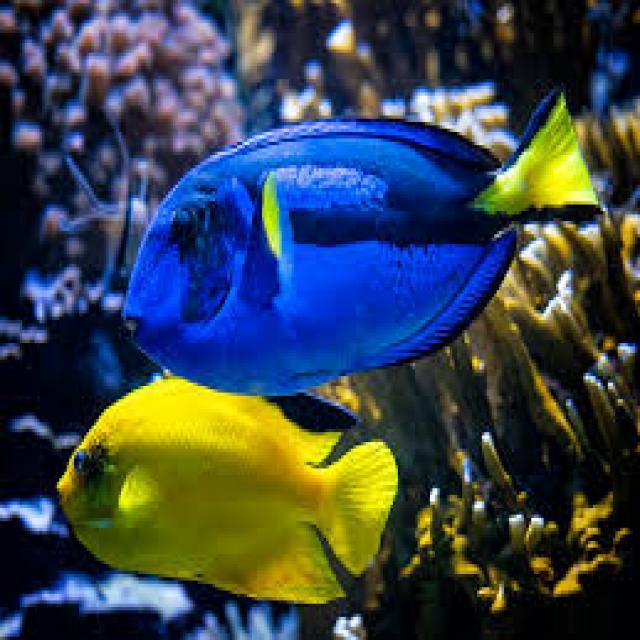TangFish: (121, 92, 607, 395), (53, 375, 398, 603)
